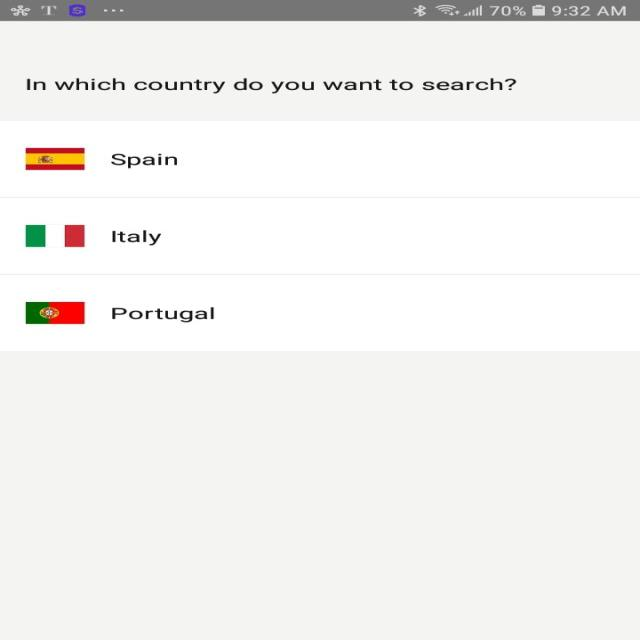Image: (26, 301, 86, 324), (26, 224, 86, 247), (24, 148, 86, 170)
Text: (26, 78, 516, 94), (111, 306, 214, 323), (111, 230, 162, 245)
